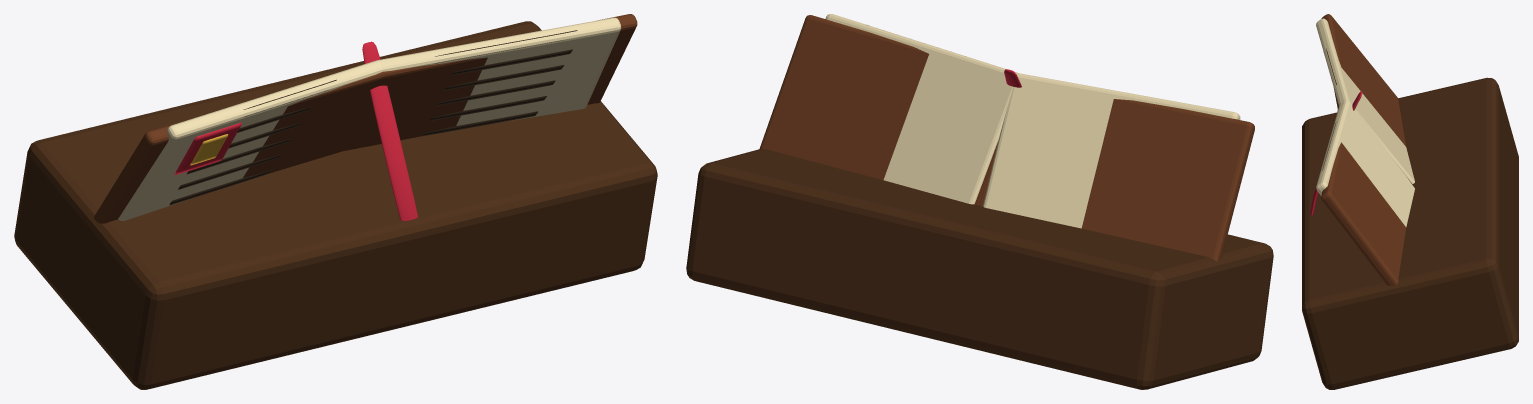
The model's file is manuscrito.glb.
3 renders of one model, left to right at view 1: azimuth 30°, elevation 25°; view 2: azimuth 150°, elevation 25°; view 3: azimuth 270°, elevation 25°, orthographic. The views are drawn at different scales.
Visible parts, largest first — view 1: atril, pagina1, pagina-1, tapa-1, tapa1, cinta, capitular, linea11, linea12, linea13, capitular_oro, linea14 (+1 smaller); view 2: atril, tapa-1, tapa1, pagina-1, pagina1; view 3: atril, tapa1, pagina1, tapa-1, pagina-1, cinta.
Boxes of the visible parts, x1,y1,x2,y2 form: atril: [14, 21, 657, 389]; pagina1: [377, 17, 621, 125]; pagina-1: [118, 60, 382, 220]; tapa-1: [94, 72, 383, 223]; tapa1: [343, 14, 637, 151]; cinta: [362, 41, 417, 220]; capitular: [175, 122, 241, 174]; linea11: [451, 49, 572, 75]; linea12: [444, 65, 564, 90]; linea13: [437, 80, 555, 105]; capitular_oro: [190, 134, 228, 165]; linea14: [430, 96, 546, 120]; atril: [686, 149, 1273, 389]; tapa-1: [979, 99, 1254, 261]; tapa1: [759, 15, 997, 205]; pagina-1: [983, 73, 1240, 228]; pagina1: [825, 14, 1018, 204]; atril: [1302, 77, 1518, 389]; tapa1: [1321, 107, 1406, 285]; pagina1: [1316, 100, 1414, 226]; tapa-1: [1321, 14, 1412, 184]; pagina-1: [1316, 18, 1414, 183]; cinta: [1310, 91, 1362, 215].
Bounding box in the file's own units: 0.44 × 0.2249 × 0.2136.
